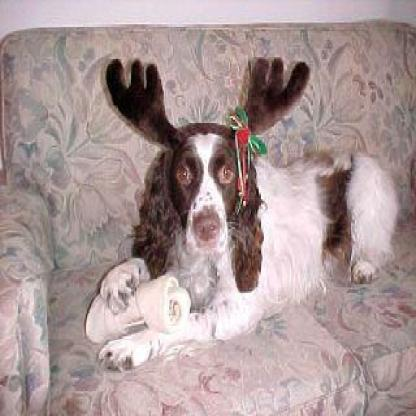English_springer: (91, 116, 397, 373)
